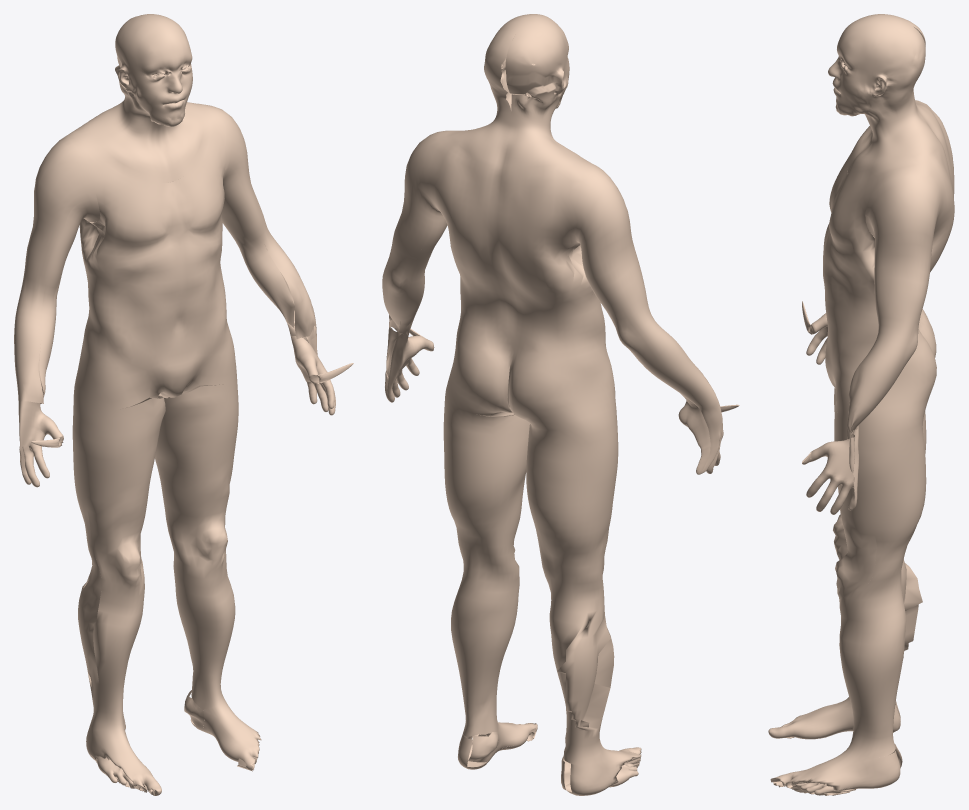
File: skin.glb
3 views of the same model, side by side, from view 1: azimuth 30°, elevation 25°; view 2: azimuth 150°, elevation 25°; view 3: azimuth 270°, elevation 25° (orthographic). The views are drawn at different scales.
Parts seen in each view (by area): view 1: Skin; view 2: Skin; view 3: Skin.
Part boxes in pixels (left/top/right/bottom): Skin: left=14, top=14, right=353, bottom=795; Skin: left=382, top=14, right=739, bottom=795; Skin: left=768, top=14, right=954, bottom=795.
Bounding box in the file's own units: 0.7905 × 1.7 × 0.385.
